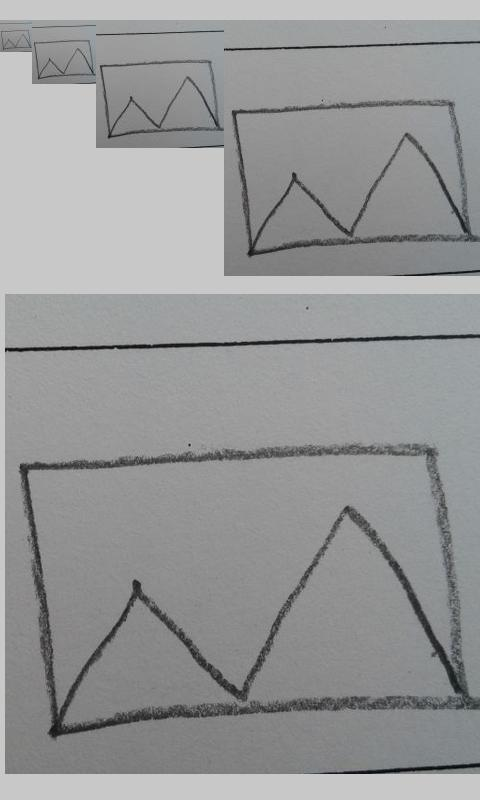image_view: (19, 444, 469, 737), (231, 100, 472, 261), (100, 60, 219, 138), (34, 39, 95, 79), (1, 29, 31, 50)
